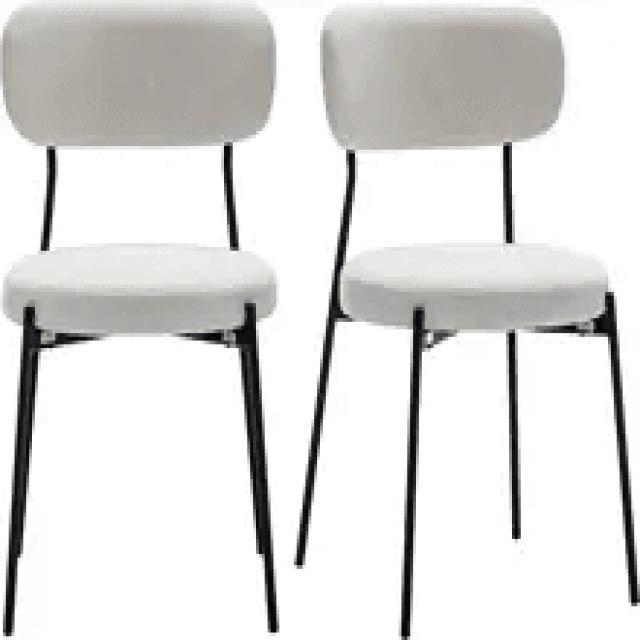chair: (295, 0, 640, 640), (0, 0, 281, 637), (296, 6, 611, 331), (0, 0, 278, 337)
